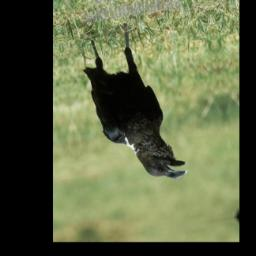Crow: (74, 11, 193, 195)
